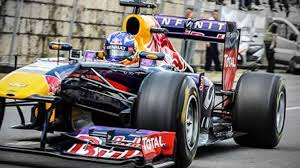f1_car: (1, 1, 290, 167)
